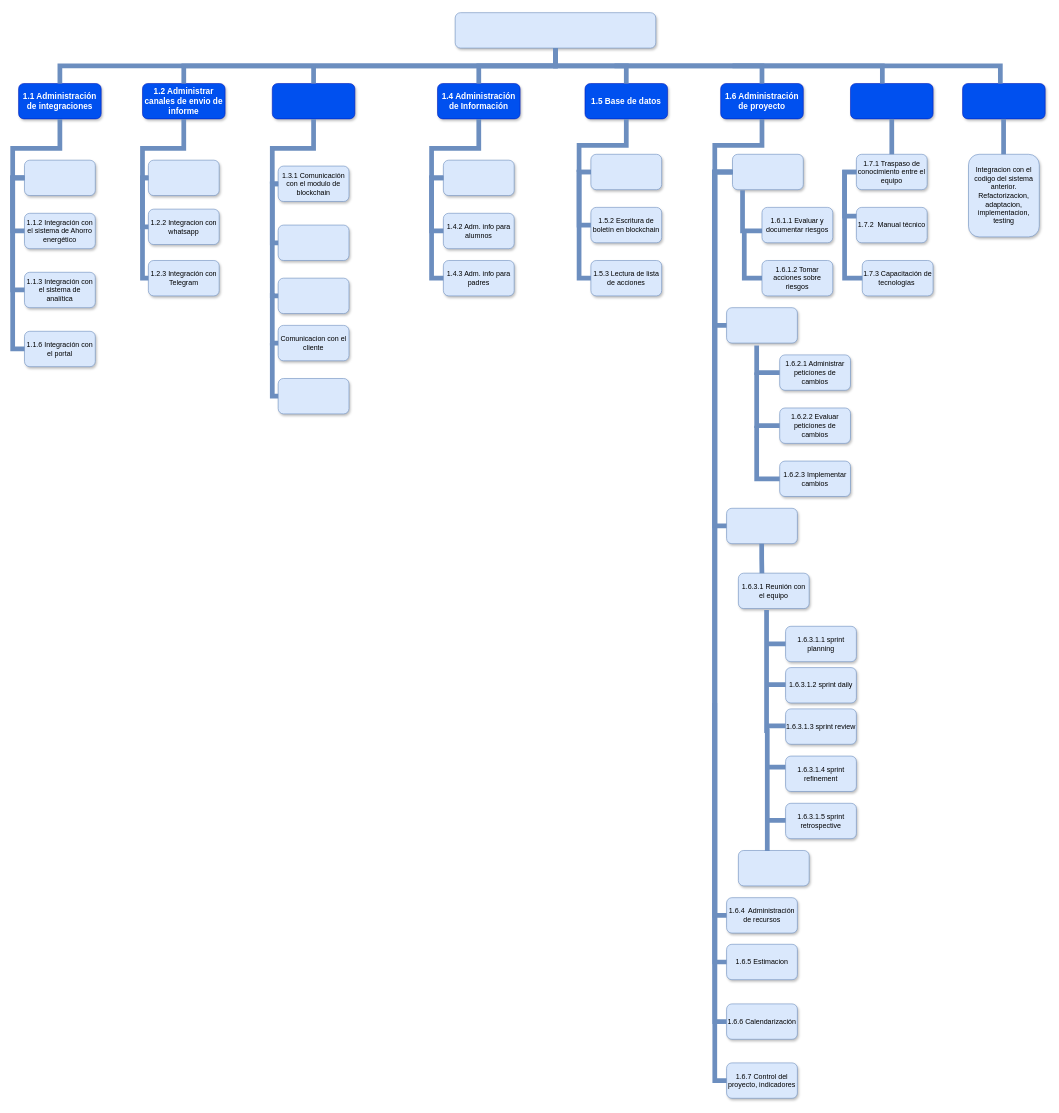
Some shapes in this 1059 by 1113 pixel diagram are drawn without their labels. The shapes that lost their labels are listed below. From the top down, each one's centre as x and y in pixels, then its label:
(555,31): 1 Boletín
(313,102): 1.3 Administrar comunicación
(892,102): 1.7 Capacitación
(1004,102): 1.8 Análisis del sistema anterior
(60,178): 1.1.1 Integración con el sistema de blockchain
(184,178): 1.2.1 Integracion con el correo electronico
(479,178): 1.4.1 Adm. Info para directivos
(626,172): 1.5.1 Lectura de datos de analitica
(768,172): 1.6.1 Gestión de riesgos
(314,243): 1.3.2 Comunicación con el modulo de analitica
(314,296): 1.3.3 Comunicación con ahorro energetico
(762,326): 1.6.2 Gestión de cambios
(314,397): Comunicacion con el equipo
(762,526): 1.6.3 Gestión de reuniones
(774,869): 1.6.3.2 Reunión con el cliente
